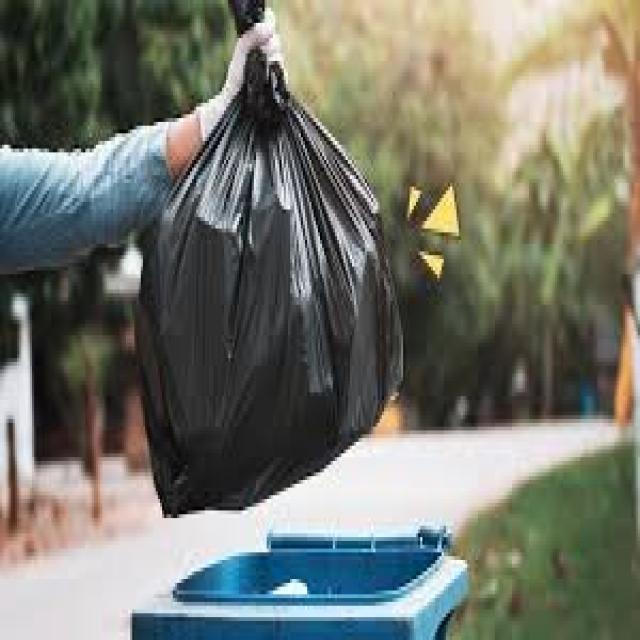sampah-detection: (139, 0, 405, 526)
